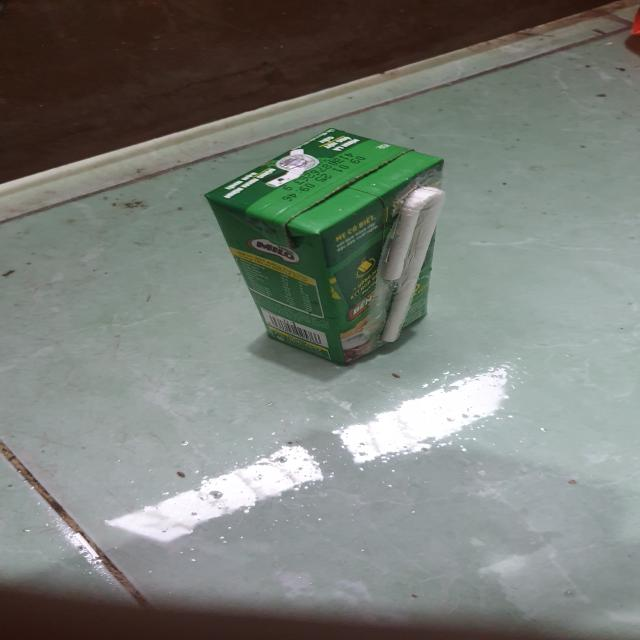Milo: (221, 130, 447, 360)
